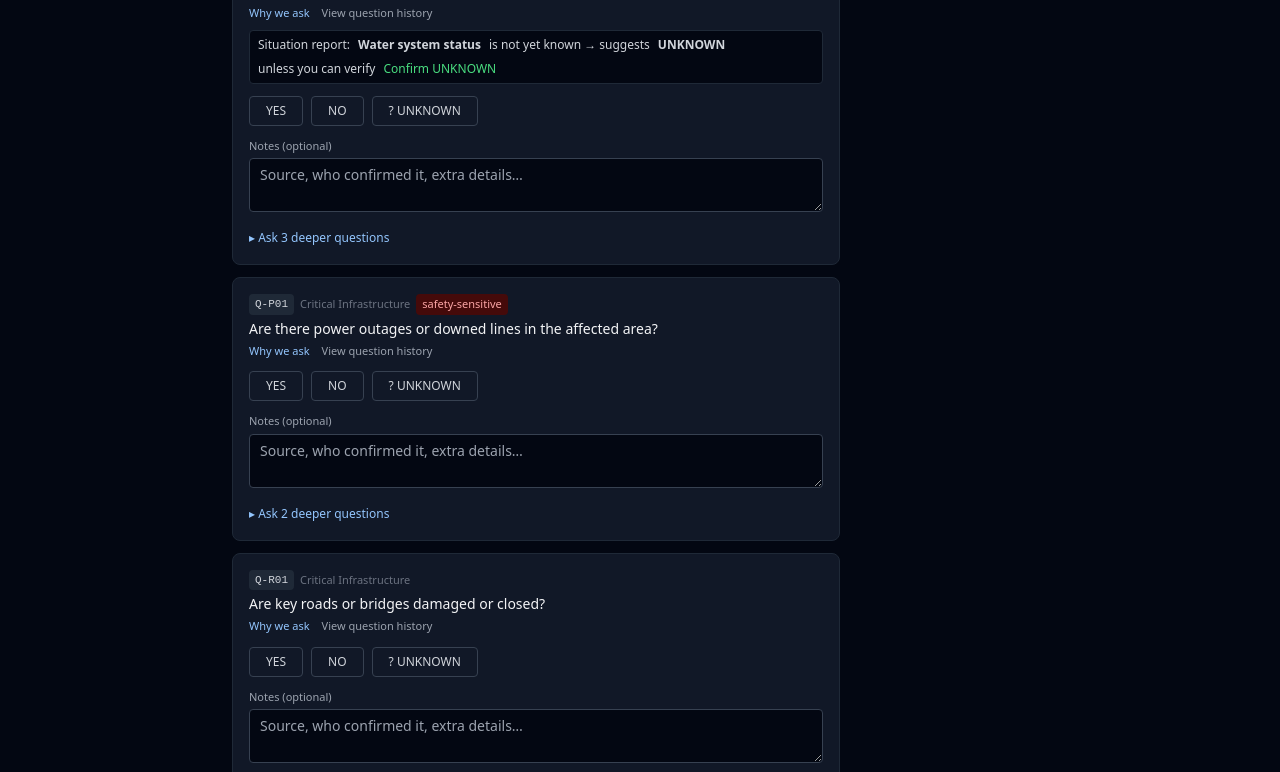
Test: results are added to PPOST as drafts only when the button is pressed
(page scrolled)
Click the radio button labelled "? UNKNOWN" below "Q-P01": (425, 386) [372,371,478,401]
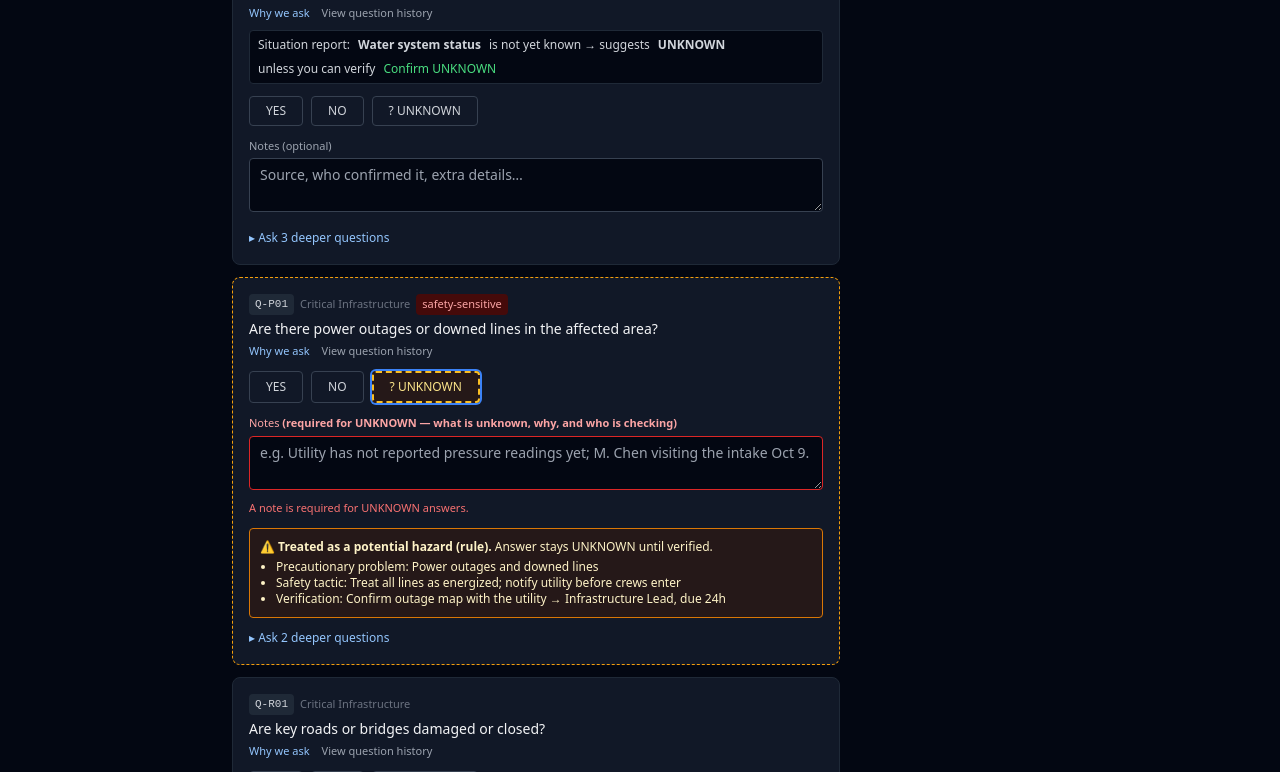
In the text box named "Note for Q-P01": (536, 462) [249,436,823,490], type "Utility has not confirmed the outage map"
(page scrolled)
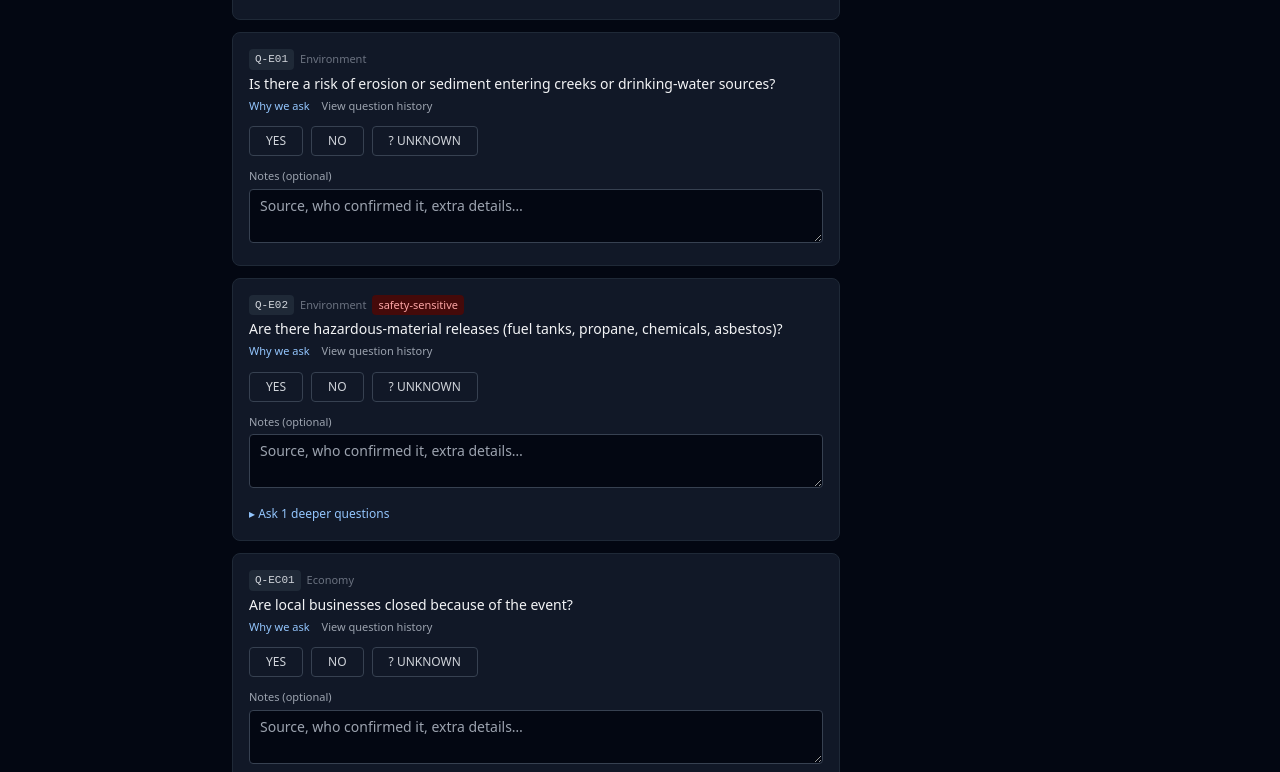
Click the radio button labelled "YES" below "Q-E02": (276, 386) [249,372,303,402]
(page scrolled)
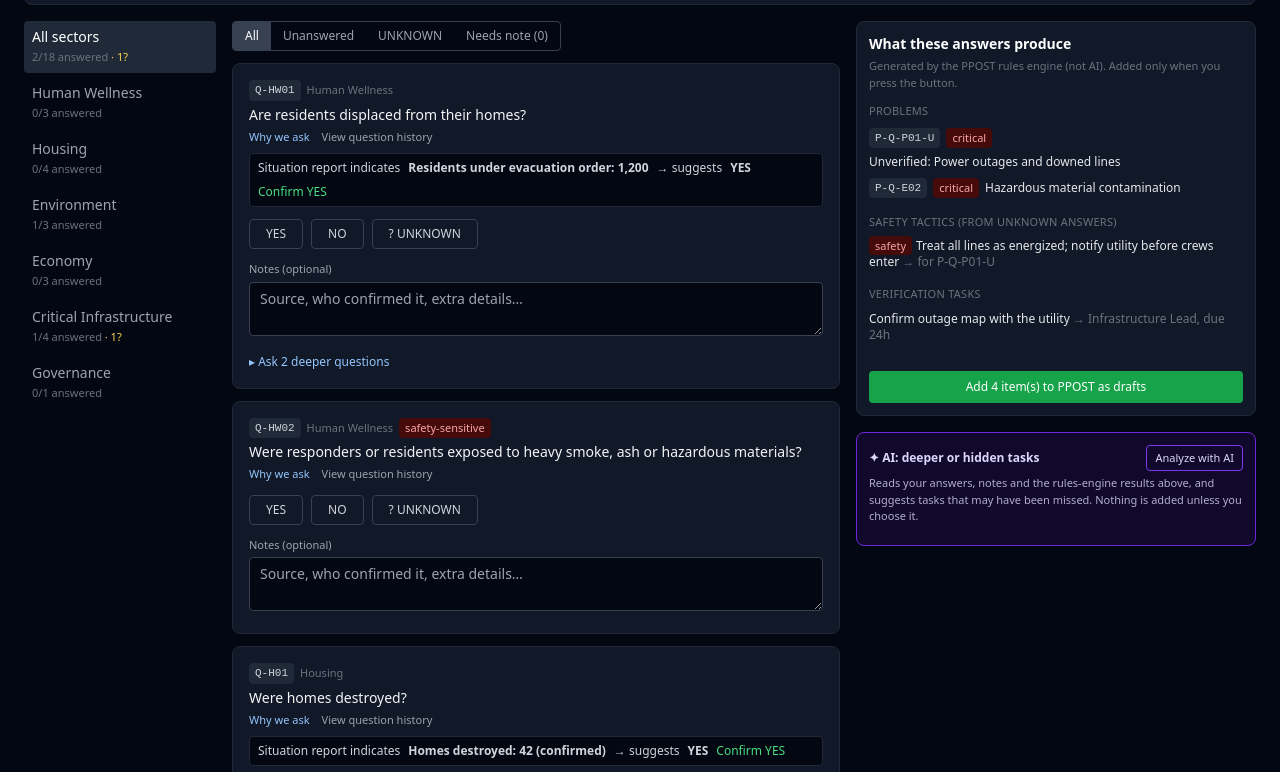
Click the button "Add 4 item(s) to PPOST as drafts": (1056, 386) [869,370,1243,402]
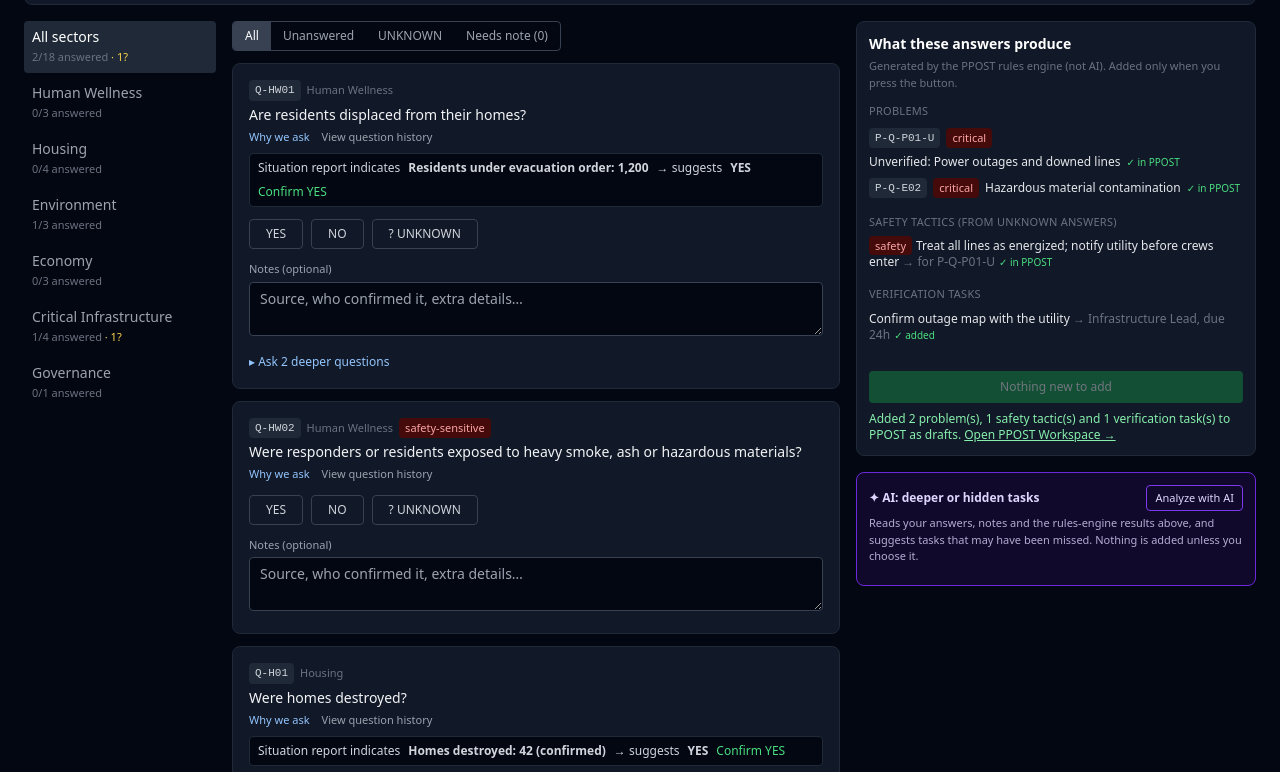
Expected: the button "Nothing new to add" is disabled, [869,370,1243,402]
